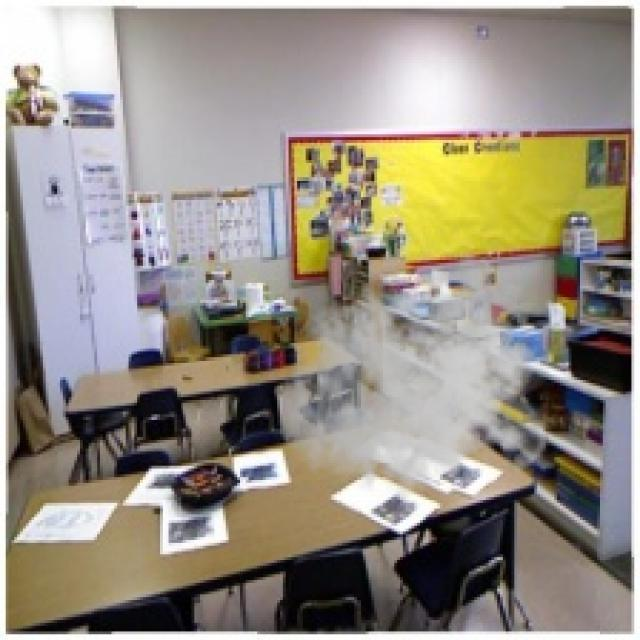Smoke: (277, 254, 554, 517)
